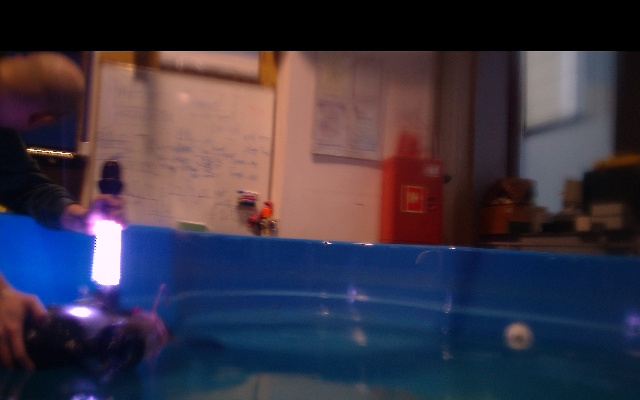white: (91, 217, 120, 290)
